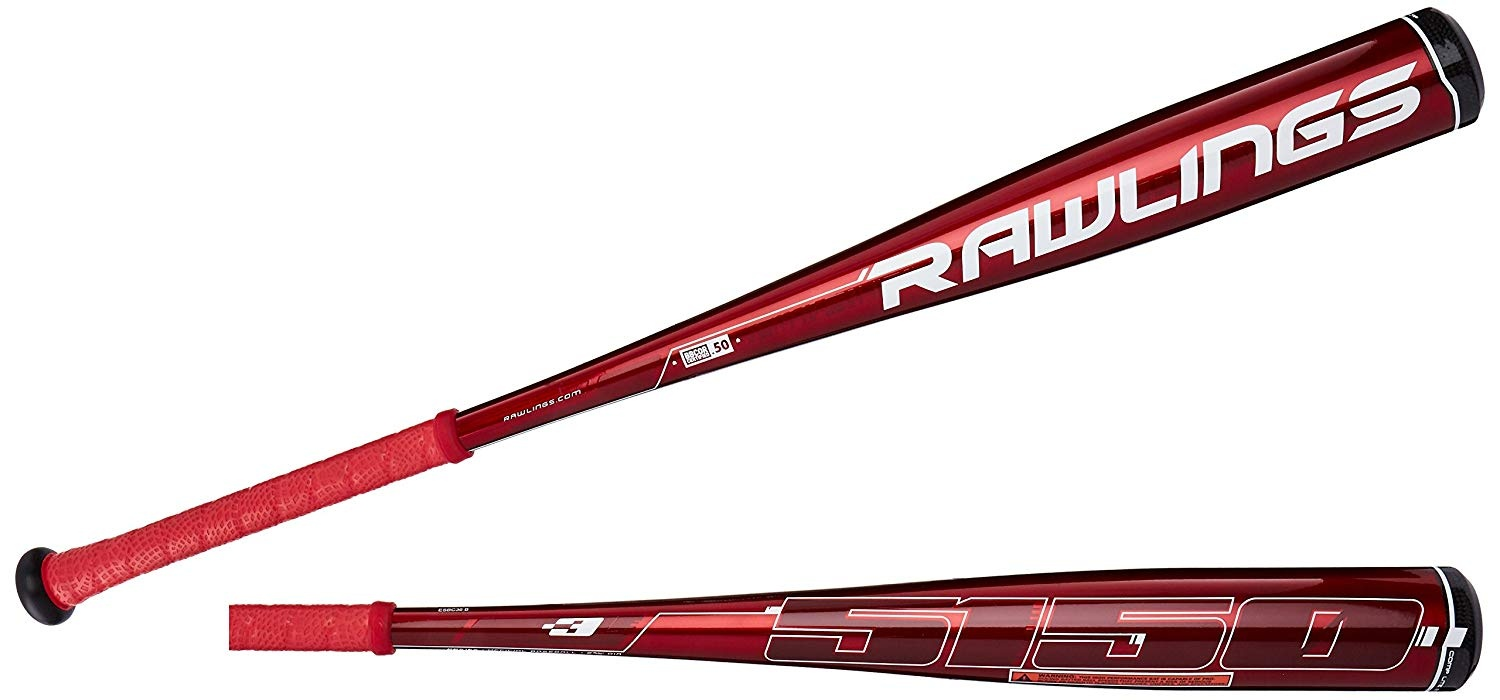bita: (18, 16, 1488, 629), (220, 564, 1483, 690)
